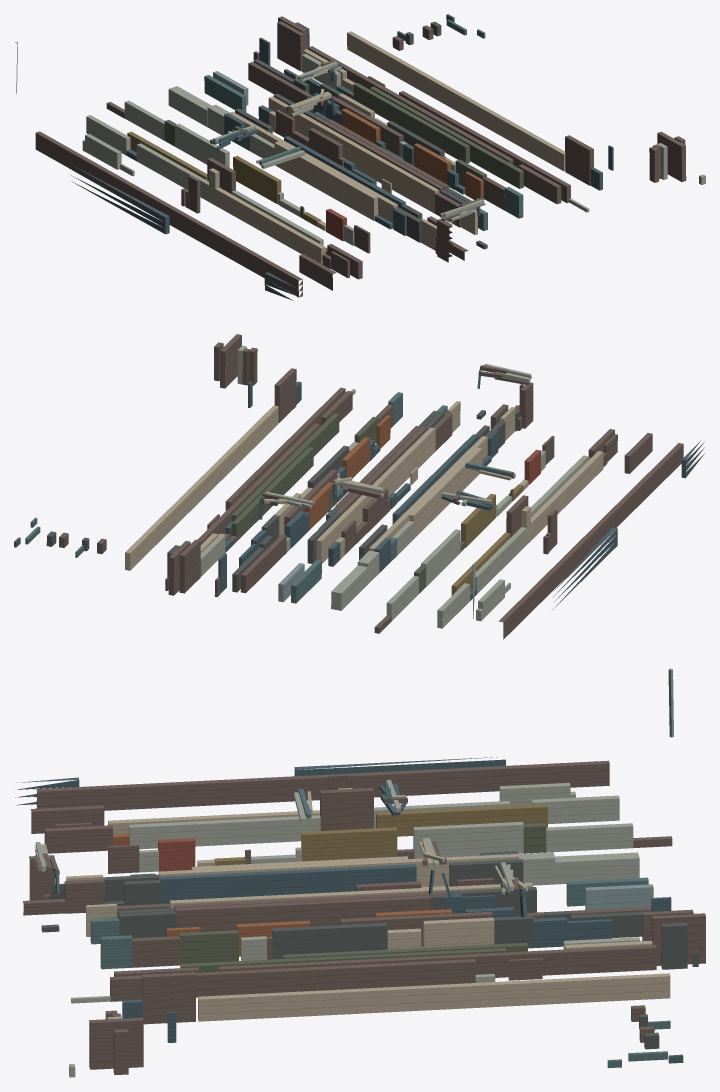
Rendered from terminal-29---119_-17.glb.
3 views of the same model, one above another, from view 1: azimuth 30°, elevation 25°; view 2: azimuth 150°, elevation 25°; view 3: azimuth 270°, elevation 25° (orthographic). The views are drawn at different scales.
Visible parts, largest first — view 1: measured-industrial; view 2: measured-industrial; view 3: measured-industrial.
Boxes of the visible parts, box(x1,y1,x2,y2) form: measured-industrial: box(15, 14, 705, 300); measured-industrial: box(14, 334, 704, 639); measured-industrial: box(15, 668, 705, 1077).
Bounding box in the file's own units: 253 × 45.45 × 245.
